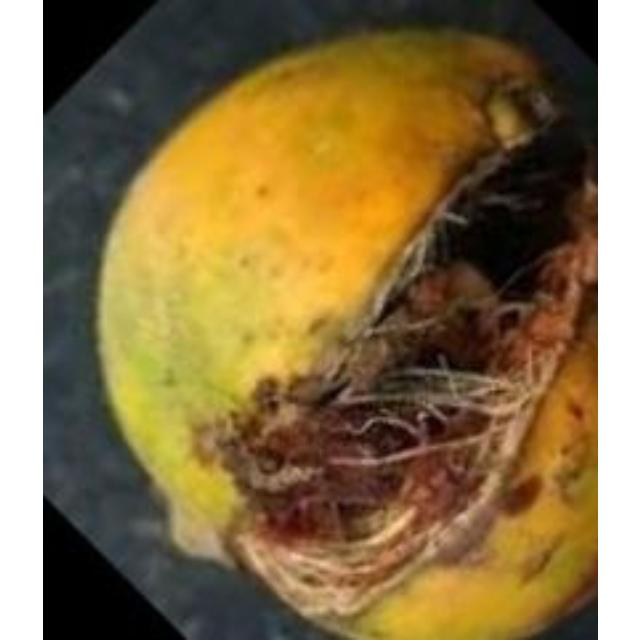damaged: (87, 21, 594, 637)
